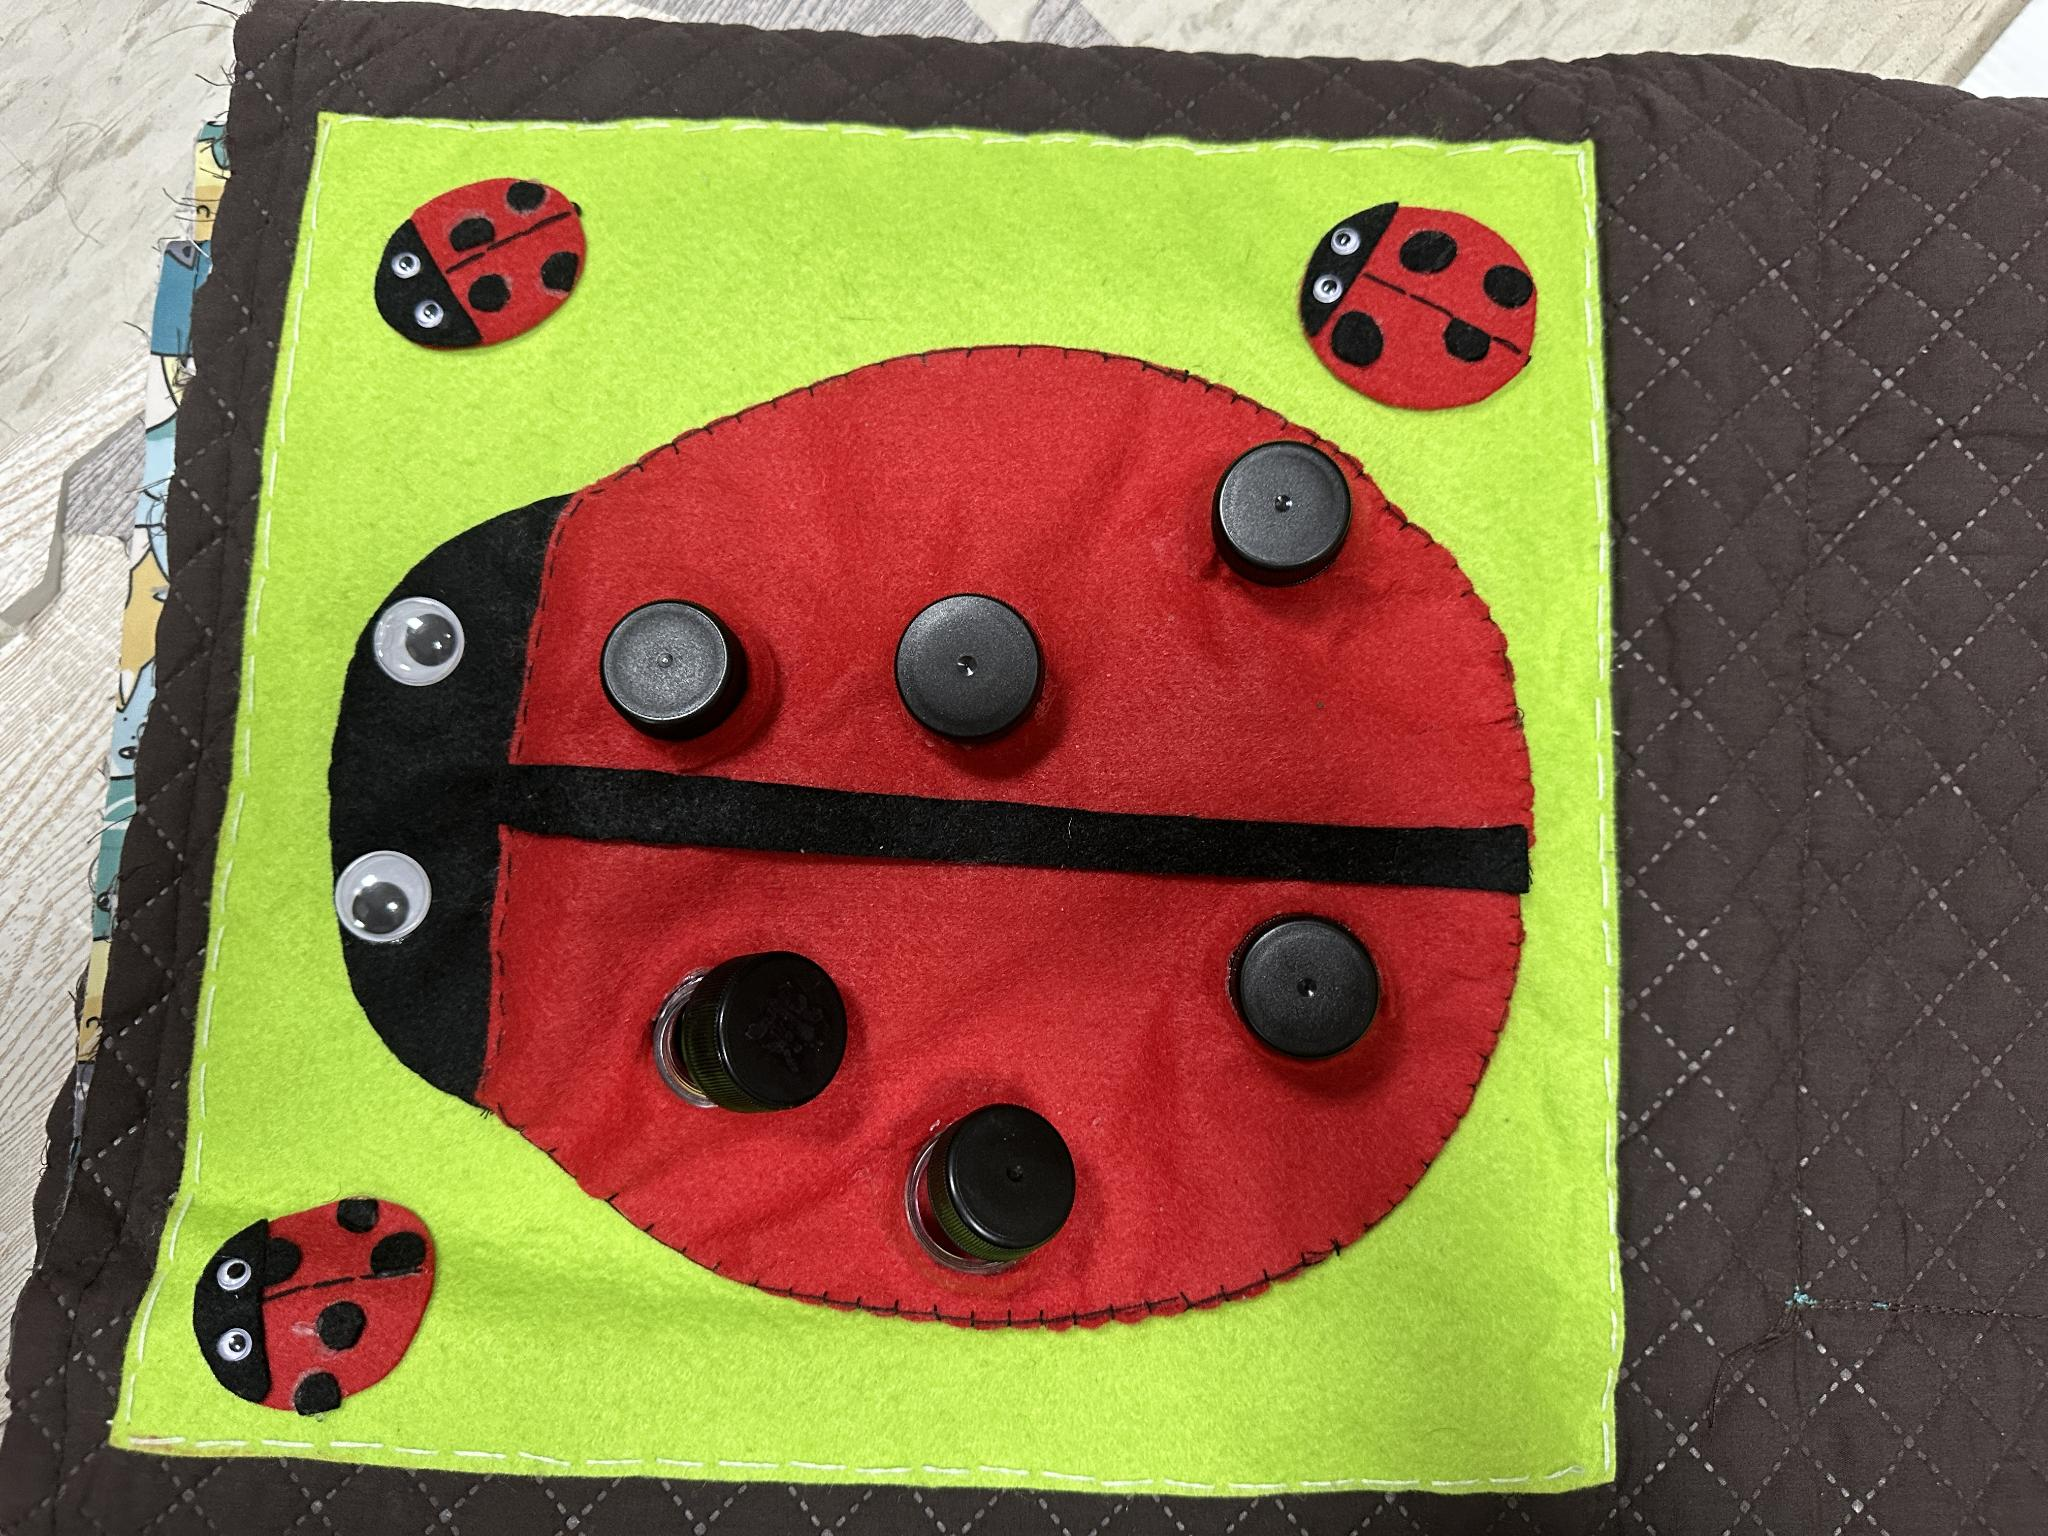cap_ng: (626, 926, 872, 1155), (892, 1086, 1103, 1289)
cap_ok: (876, 570, 1092, 779), (1200, 892, 1414, 1094), (579, 555, 787, 760), (1201, 424, 1377, 600)
